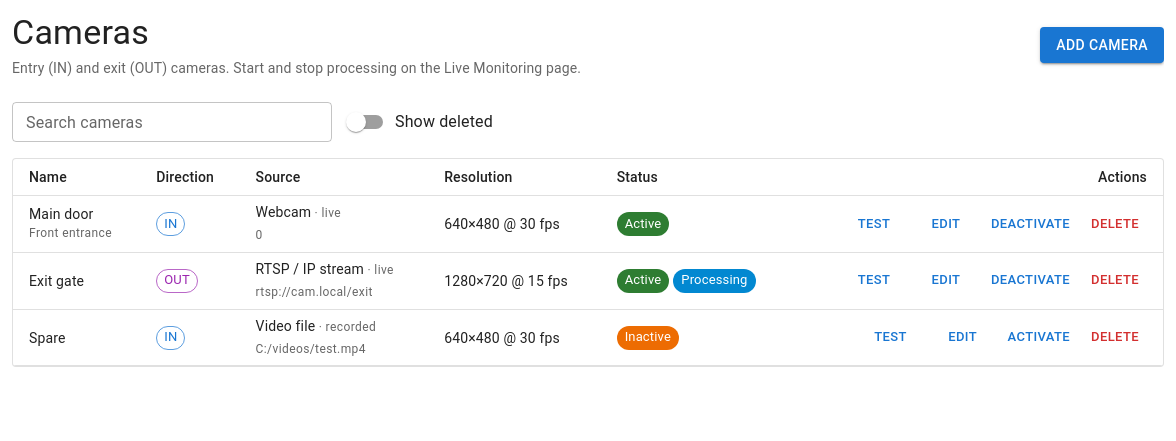
Test case: list › "Show deleted" requests include_deleted=true; deleted cameras are read-only
Expected: the table named "Cameras" is shown, [13,159,1163,366]
Click the checkbox labelled "Show deleted": (419, 122) [346,112,493,132]
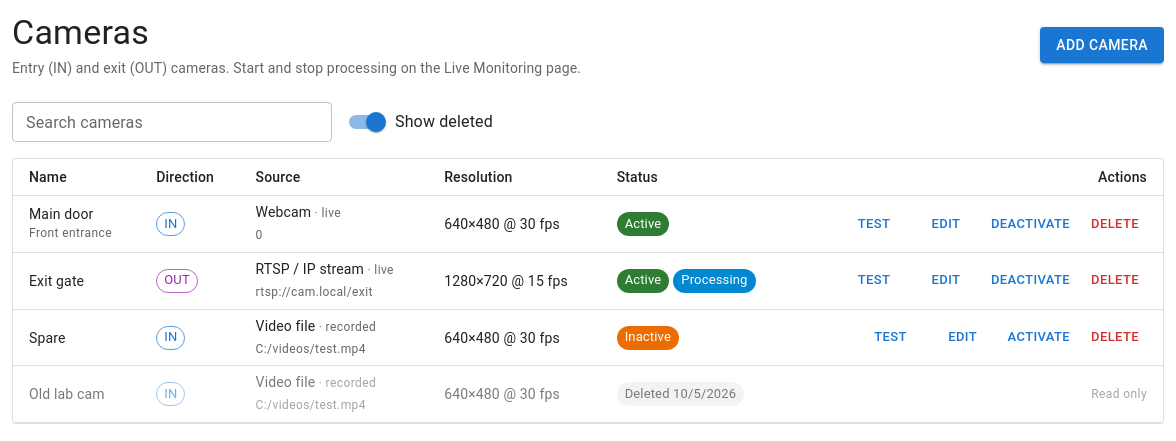
Now the text "Old lab cam" is shown, box [29,386,105,402]
Now the text "Deleted 10/5/2026" is shown, box [617,385,744,404]
